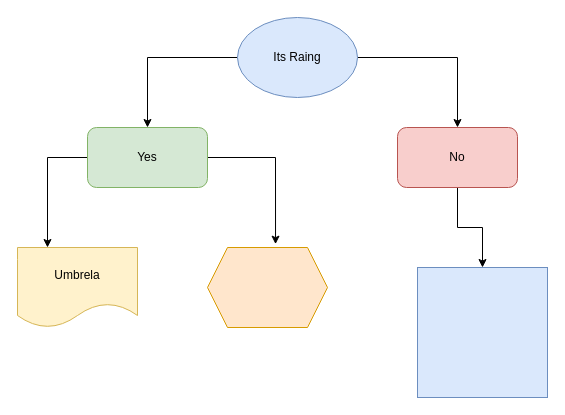
This 565x415 diagram has some shape labels left out. Here are the shapes that lost their labels. From the top down, the centre of each, then its label:
(x=267, y=287): Stay in Home
(x=482, y=332): Out of Home
